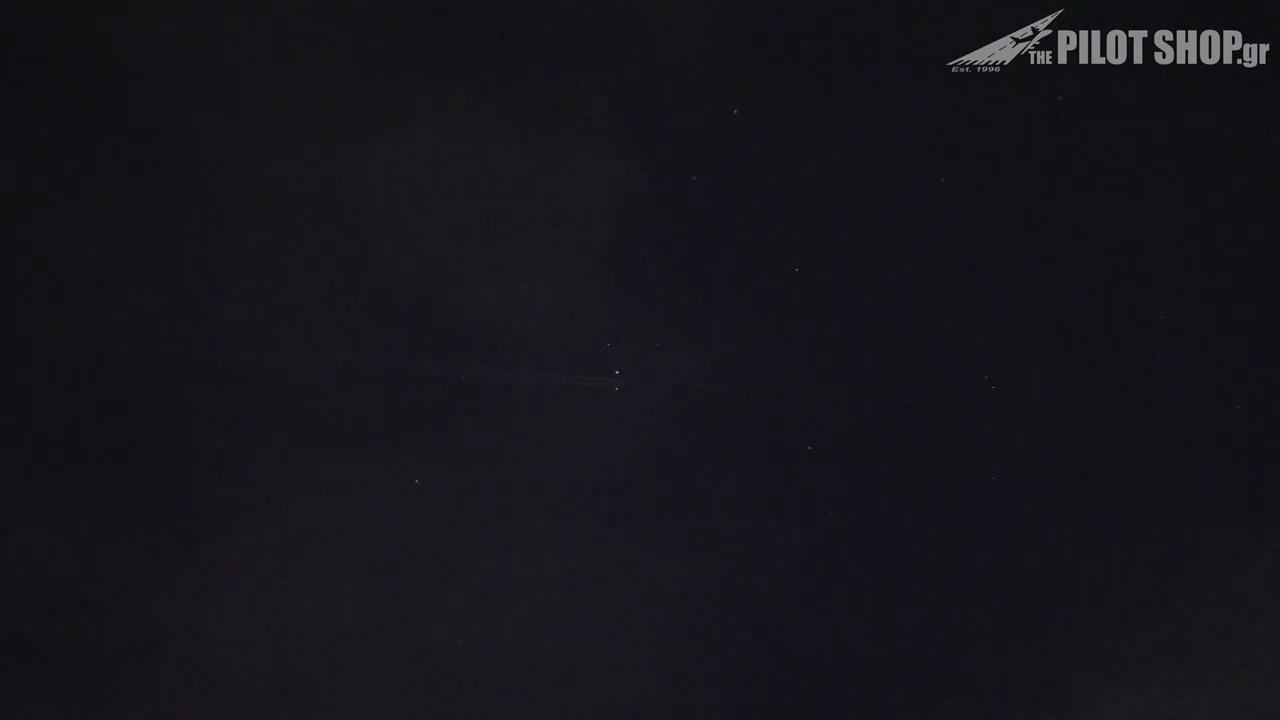Plane: (558, 363, 647, 402)
